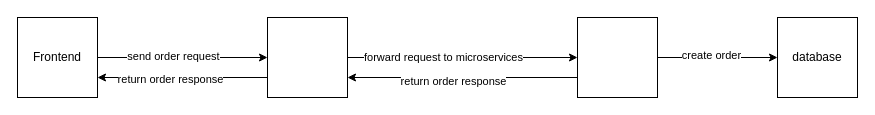
The diagram is 875 pixels wide and 115 high, and some of its shapes have lost their labels. The centre of each missing label's shape, as x and y in pixels:
"order-service" goes at pixel 617 57.
"pizza-api" goes at pixel 307 57.
